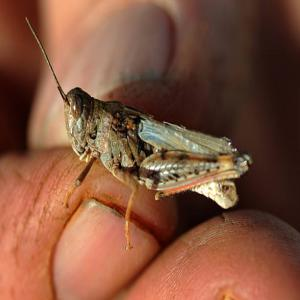locust: (57, 62, 260, 238)
